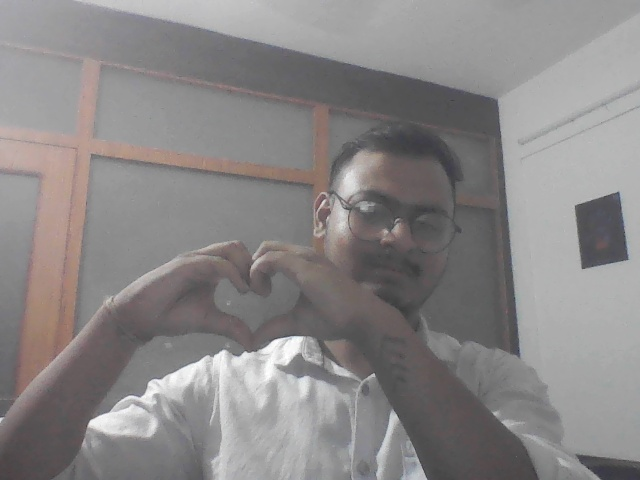Heart: (150, 235, 344, 356)
